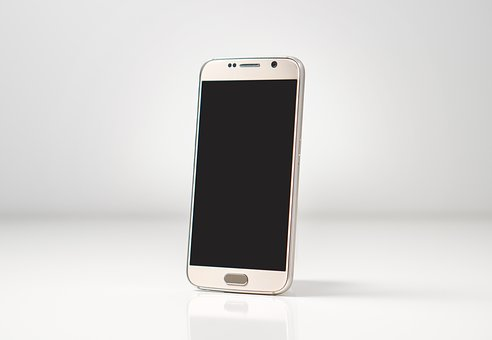mobile: (188, 53, 307, 299)
